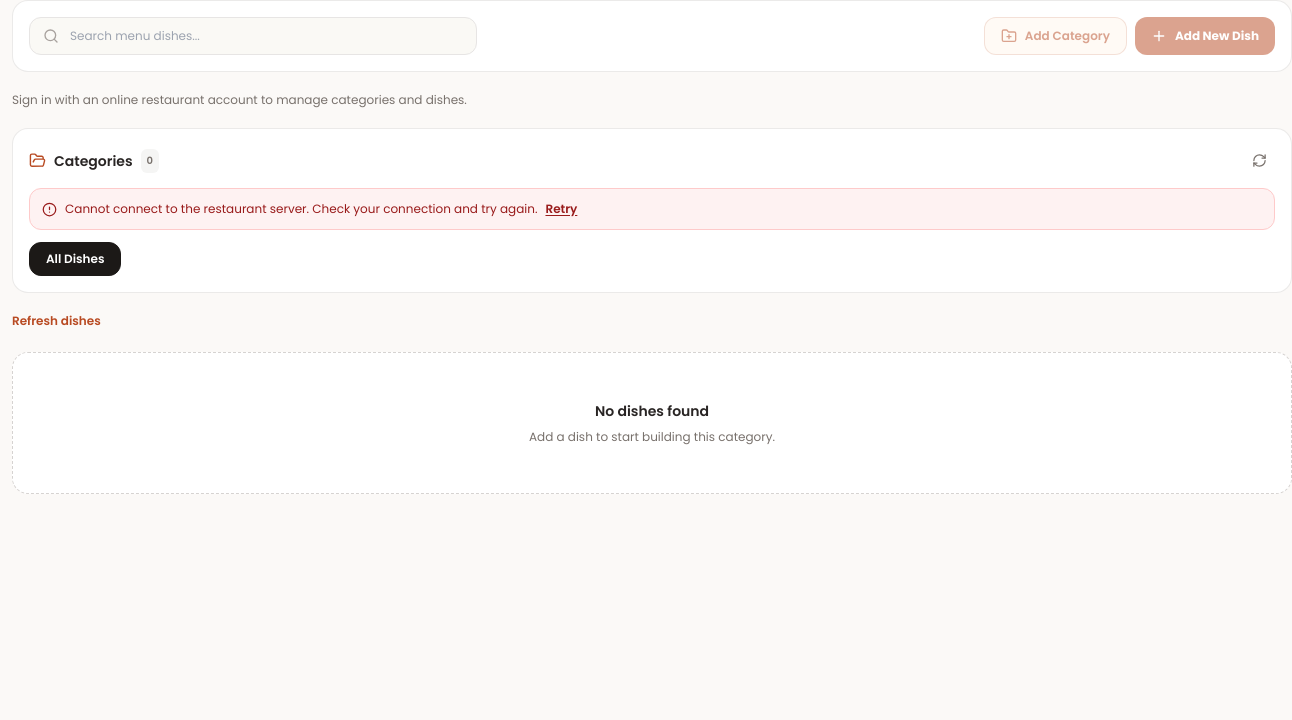
Test: menu category creation › shows list failure and can retry successfully without hardcoded category fallback
The width and height of the screenshot is (1292, 720).
Expected: the message is shown, [29,188,1275,230]
What coordinates should you click on to do the following:
click the button "Retry"
I would click on:
 (561, 209)
Its box is [546,201,577,217].
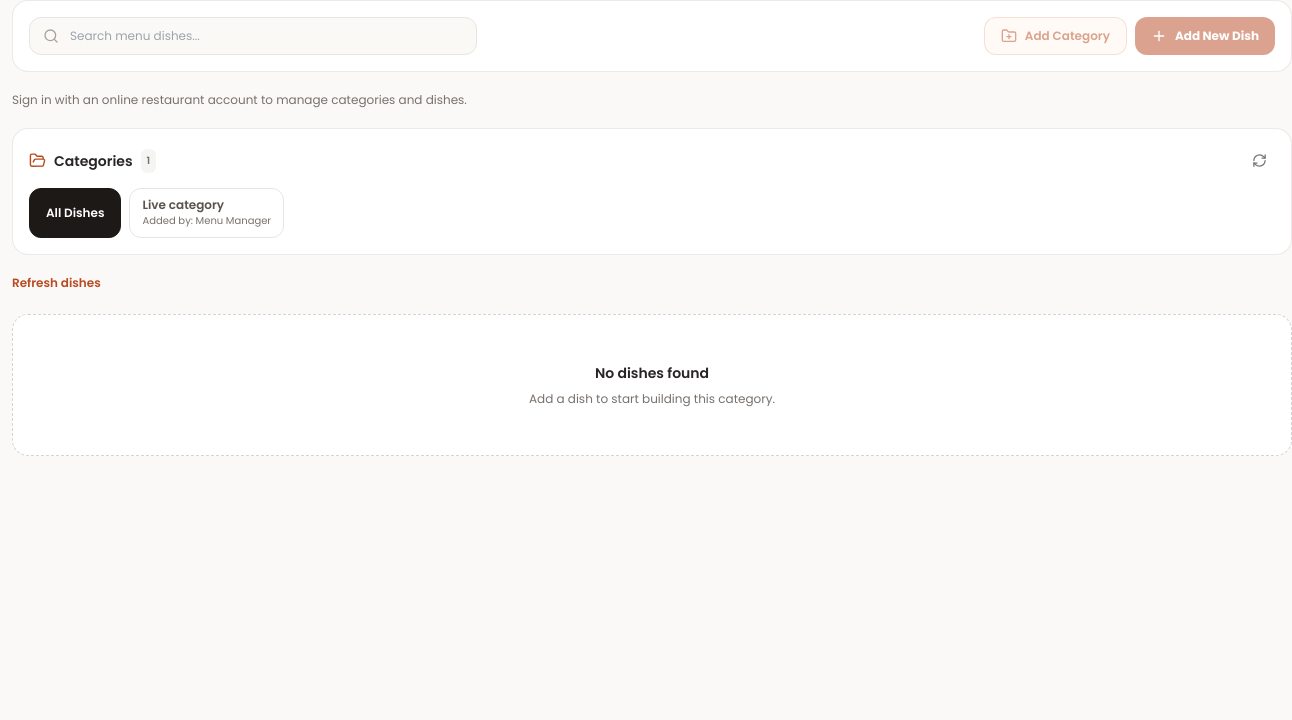
Now the button "Live category Added by: Menu Manager" is shown, box [142,197,271,229]
